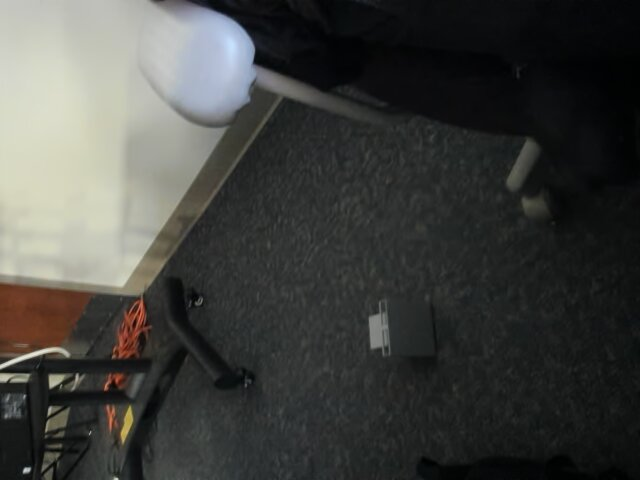grey pallet: (364, 296, 441, 361)
